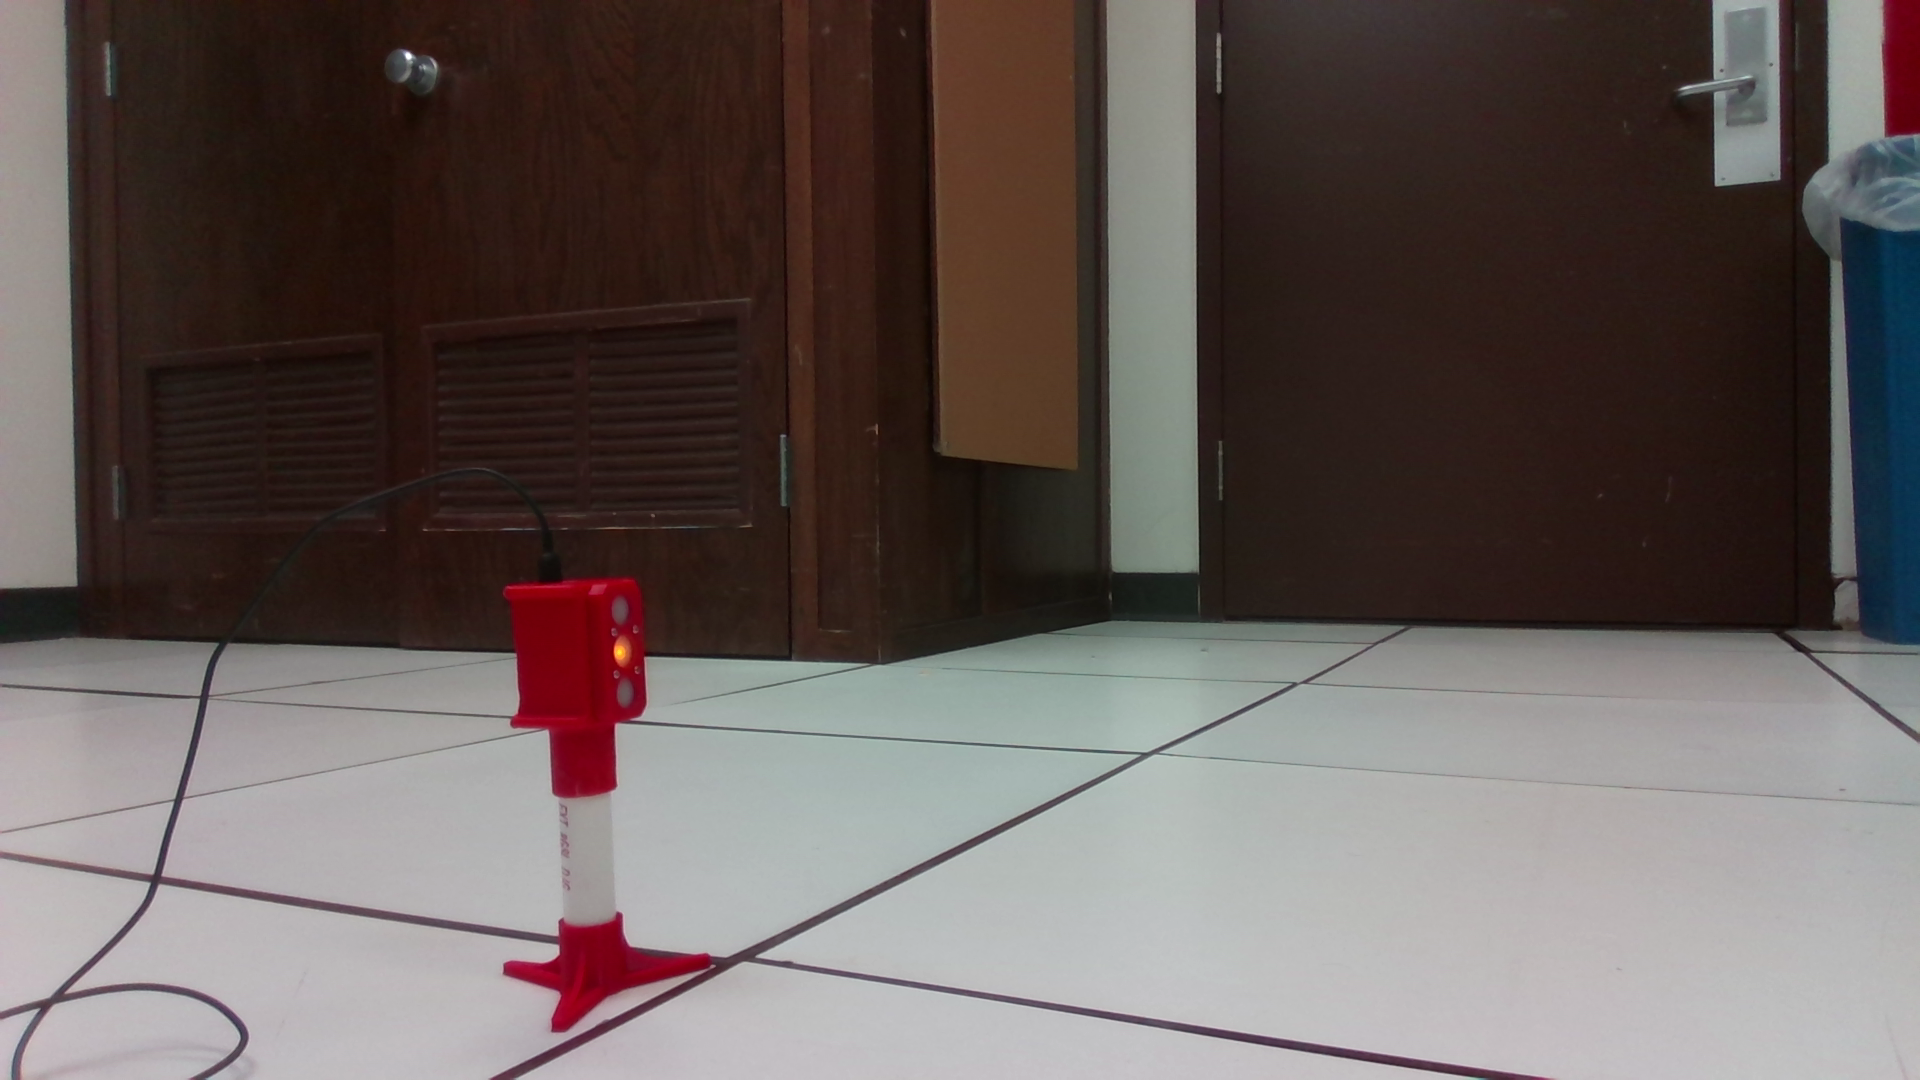stoplight: (504, 582, 651, 800)
